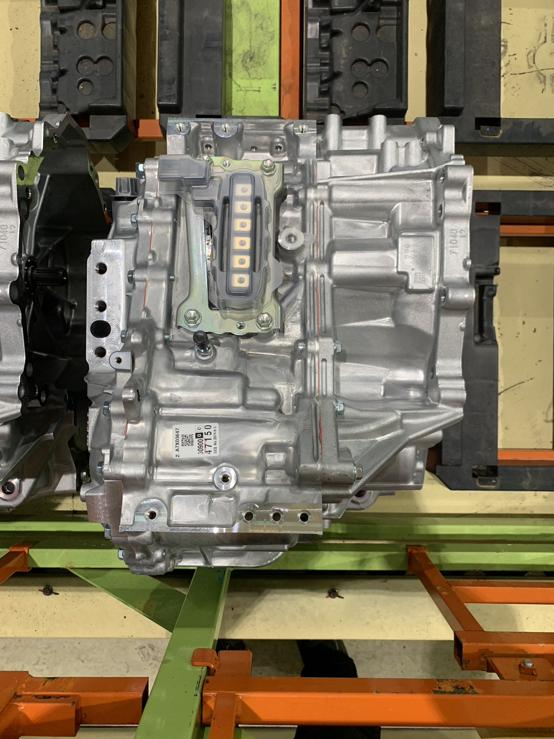gearbox_type3: (84, 113, 474, 579)
gearbox_type3_FP1: (223, 168, 262, 301)
gearbox_type3_FP2: (212, 460, 240, 494)
gearbox_type3_FP3: (85, 236, 125, 400)
